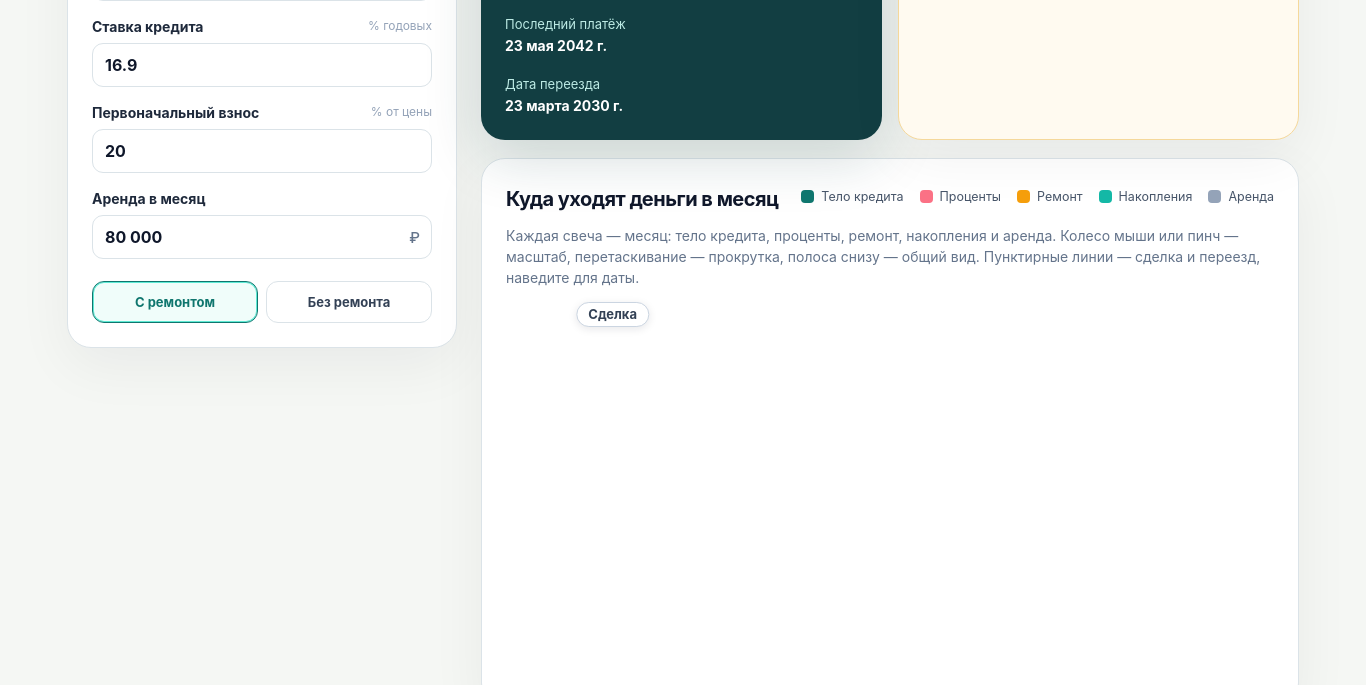
App: public UI through mounted component › shows the validation message when renovation has cost but zero duration
(page scrolled)
Click the button "Без ремонта".
click(349, 302)  # box [266,281,432,323]
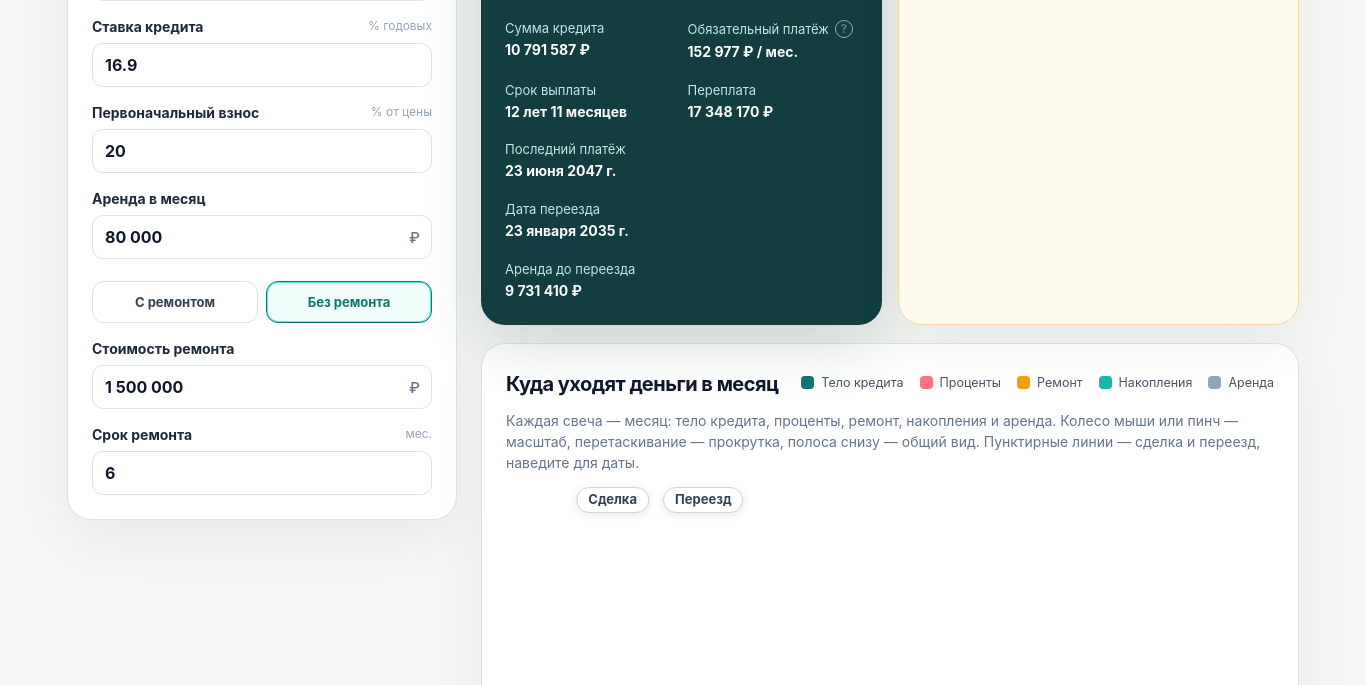
Replace the text in the number field labelled "Срок ремонта мес." with "0" at (262, 473), box [92,451,432,495]
(page scrolled)
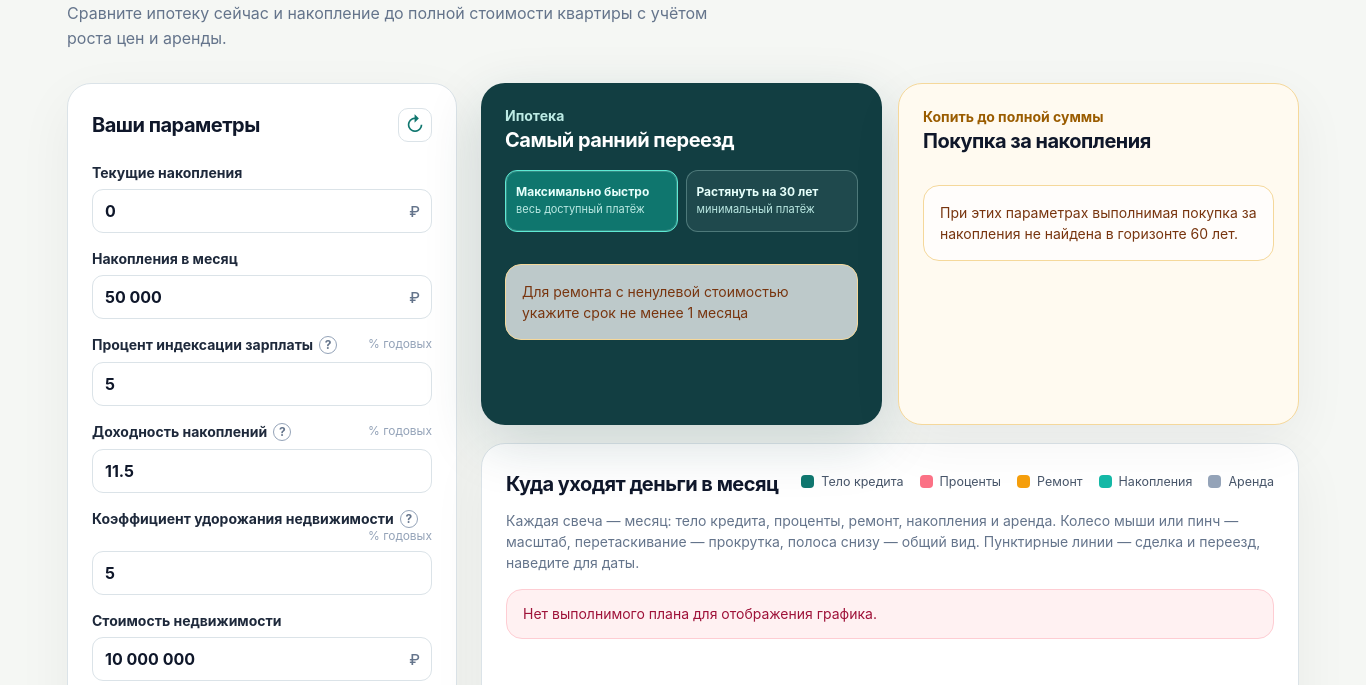
Now the text with class "empty" reads "Для ремонта с ненулевой стоимостью укажите срок не менее 1 месяца", box [522,283,788,321]
